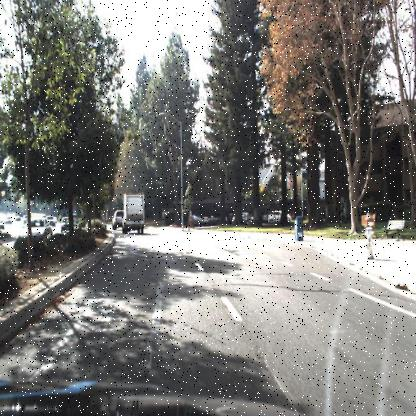car: (23, 218, 54, 247), (60, 213, 79, 237), (110, 204, 126, 232)
truck: (118, 190, 147, 235)
